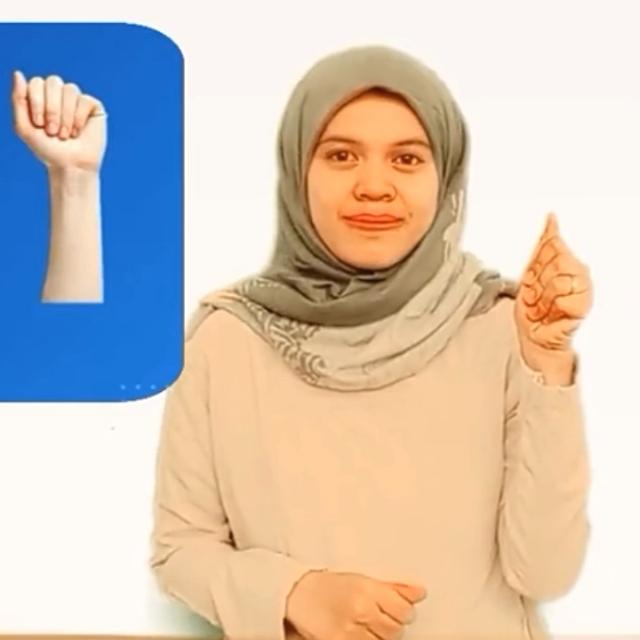A: (499, 208, 596, 362)
